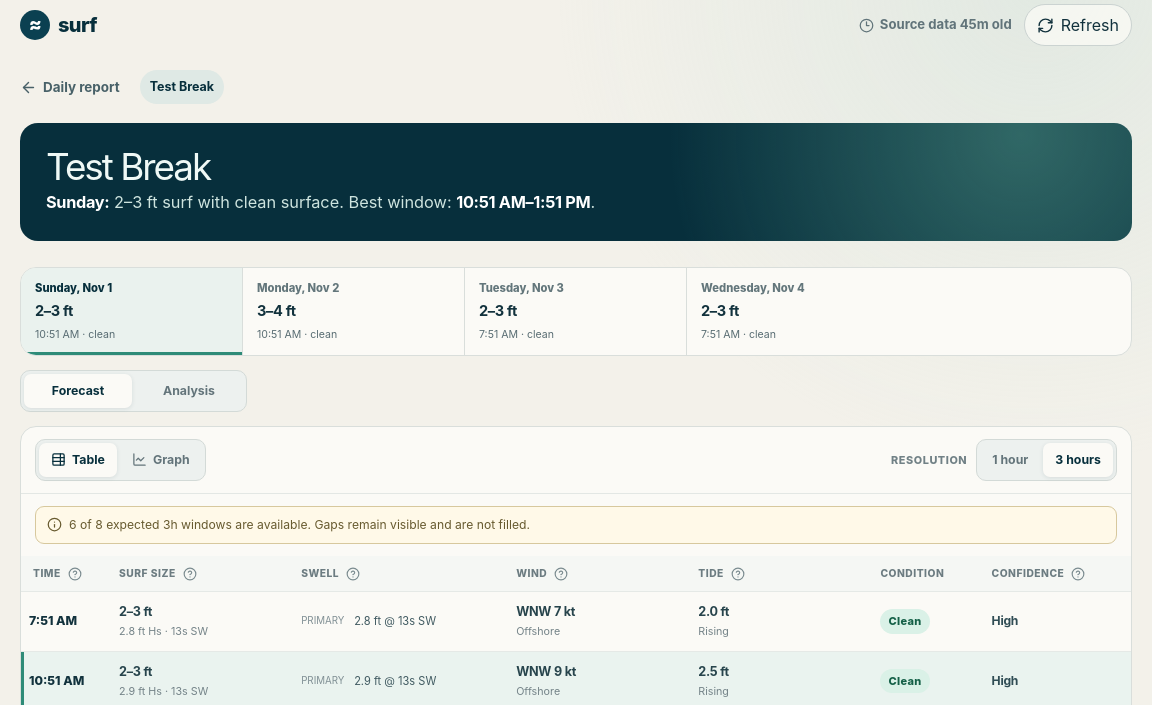
Scenario: App › deep-links to Analysis, fetches the brief only there, and round-trips the tab param
This screenshot has width=1152, height=705.
Press the mouse on the tab "Analysis" at (189, 391), box [135,374,243,408]
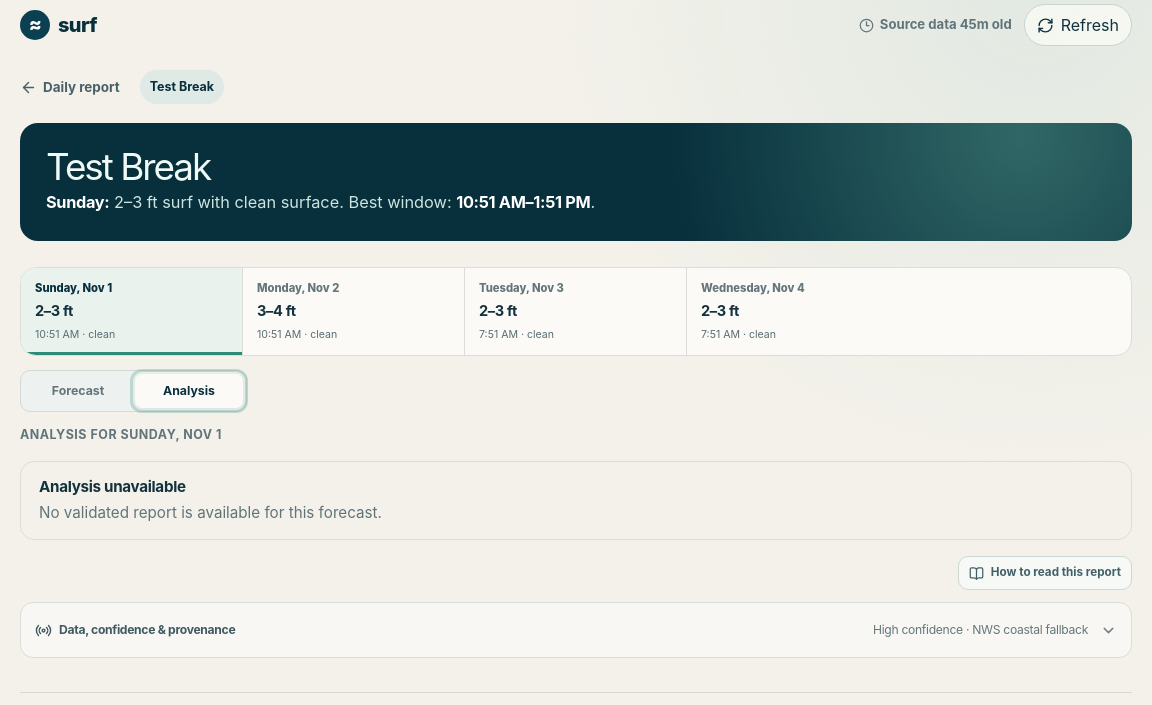
Expected: the text "Data, confidence & provenance" is shown, [35,621,235,639]
Result: the text "Analysis unavailable" is shown at [39,476,186,496]
Press the mouse on the tab "Forecast" at (78, 391), box [24,374,132,408]
(page scrolled)
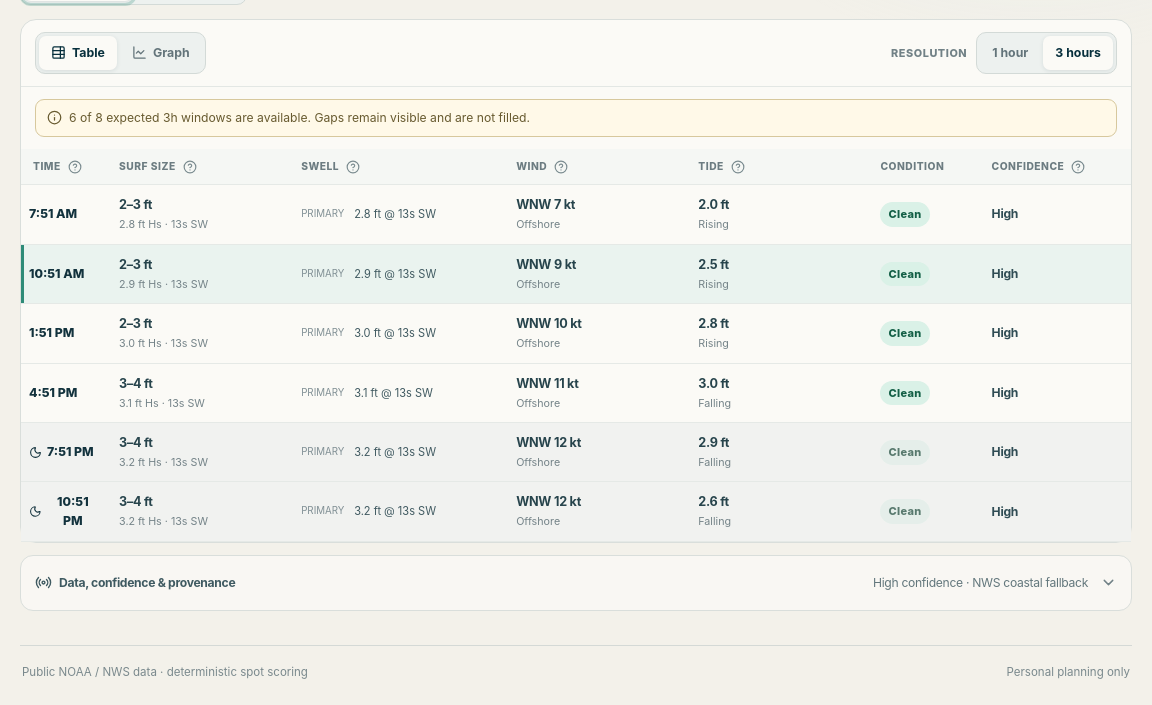
Result: the table named "Three-hour surf-planning inputs" is shown at [21,149,1131,542]
